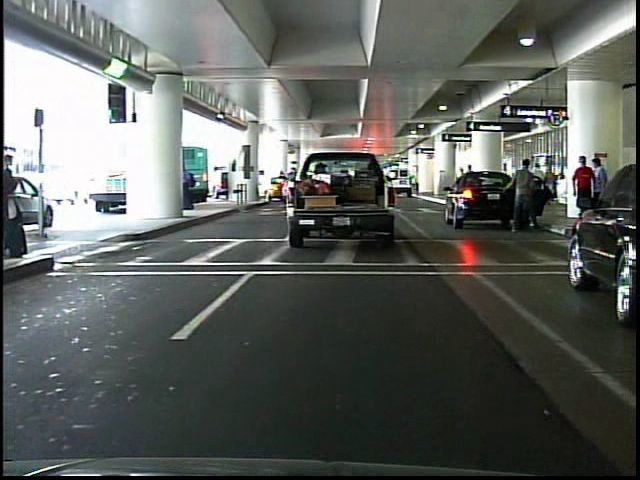person: (501, 149, 542, 238), (570, 155, 598, 230)
